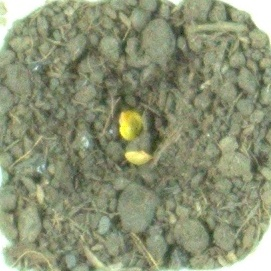chilli seed: (116, 108, 146, 141), (124, 143, 157, 168)
